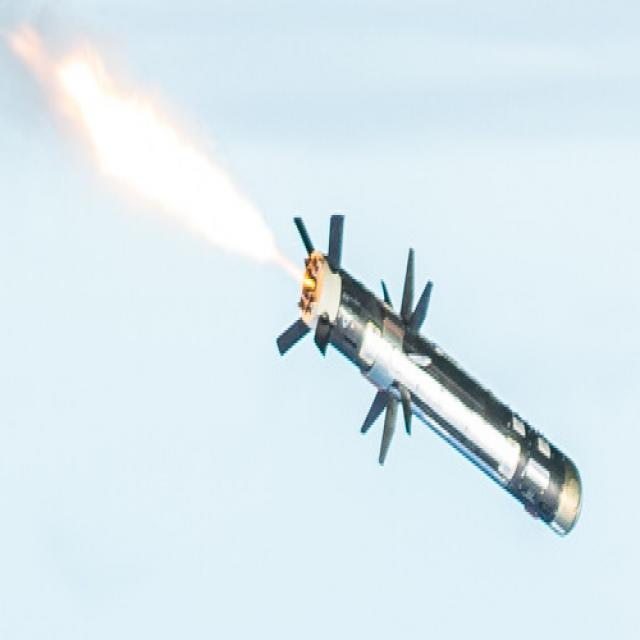missile: (267, 203, 584, 537)
